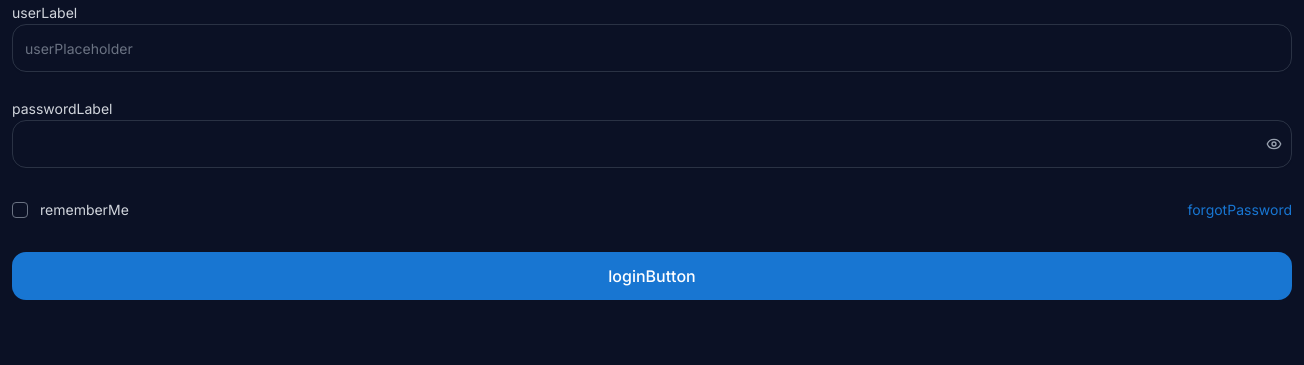
it: LoginForm › Form validation › should show validation error for invalid email format
Type "invalid-email" into the field with placeholder "userPlaceholder" at (652, 48), box [12,24,1292,72]
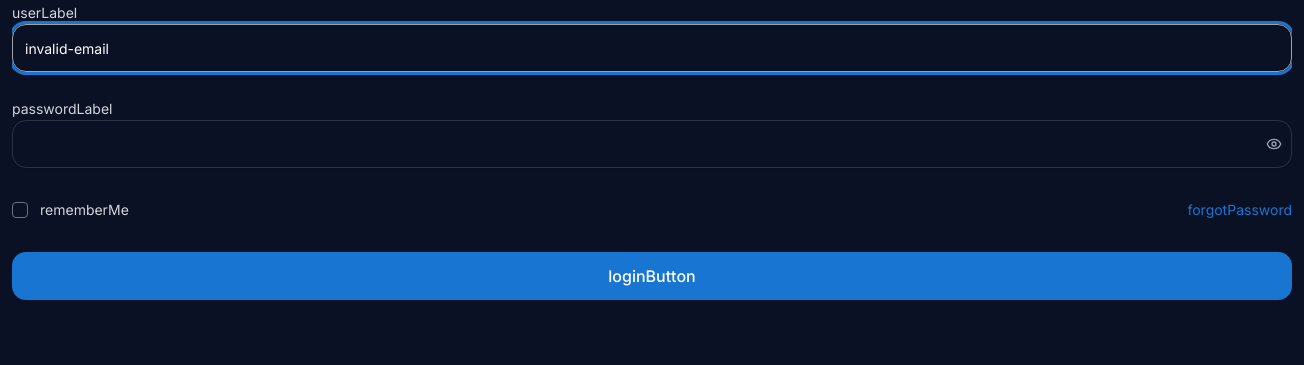
Click the button "loginButton" at (652, 276), box [12,252,1292,300]
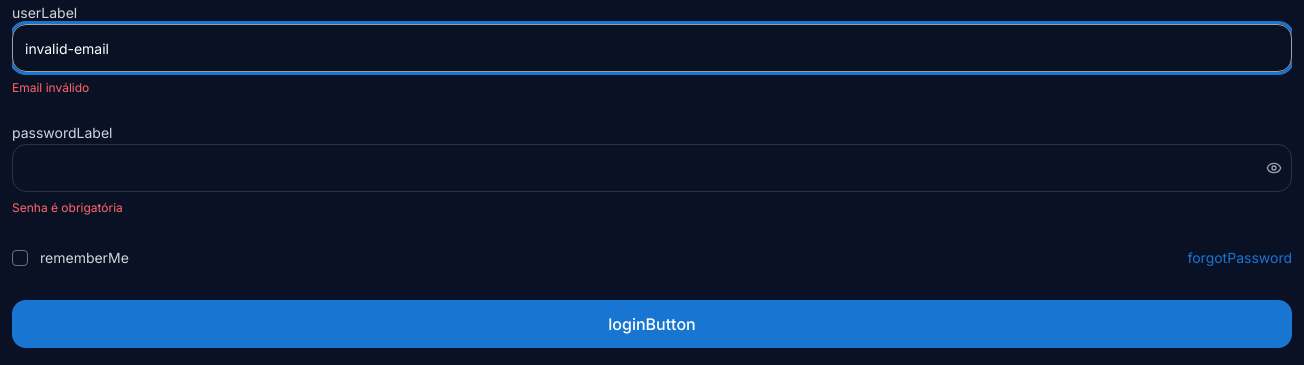
Expected: the text "Email inválido" is shown, [12,80,89,95]
